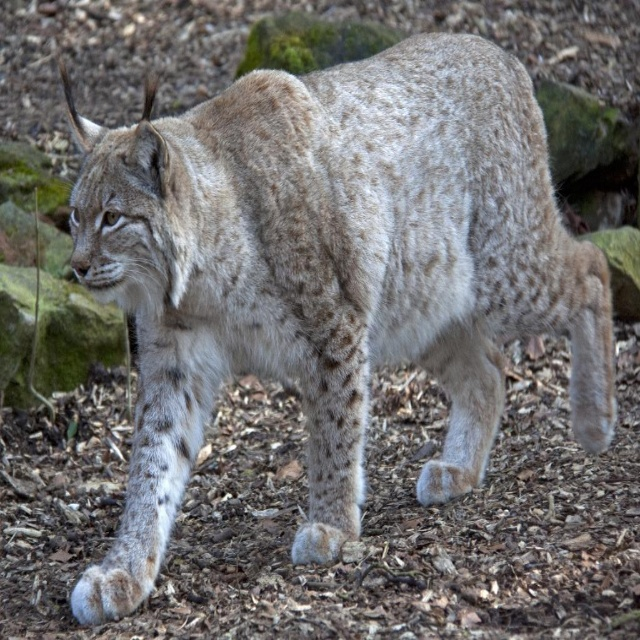Lynx: (55, 27, 619, 629)
